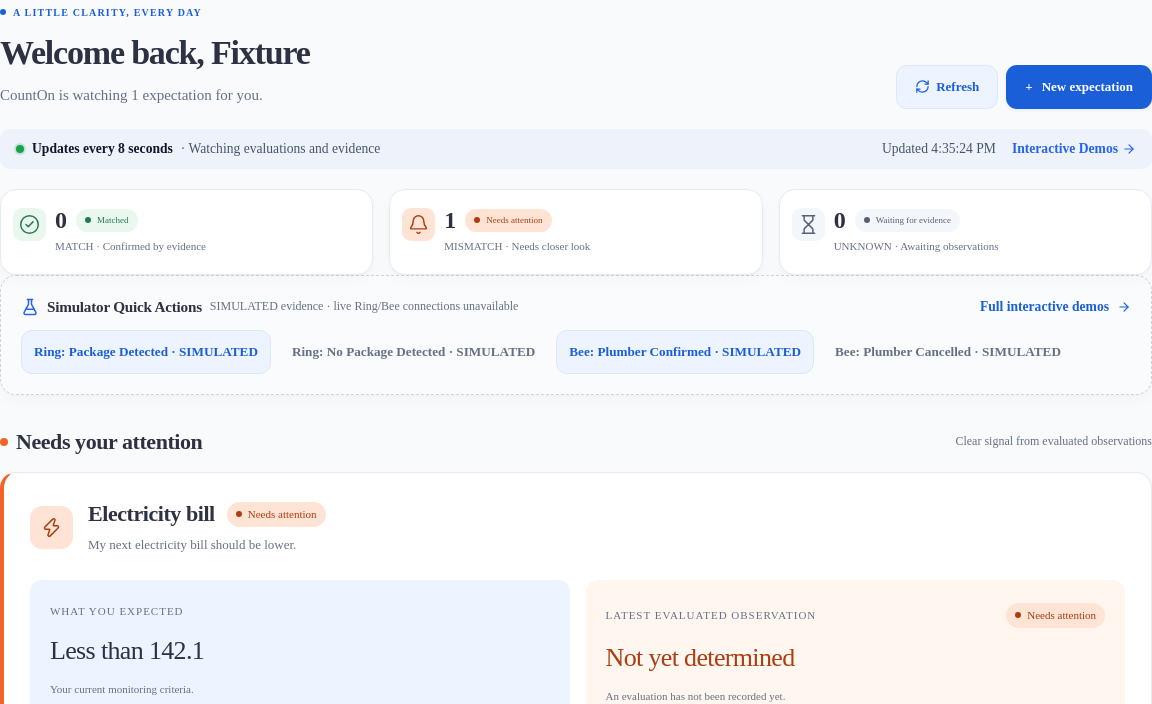
Test case: never attaches a quick simulator event to an unrelated first row
This screenshot has width=1152, height=704.
Click the button "Ring: No Package Detected · SIMULATED". click: (414, 352)
box: 279,330 -> 548,374
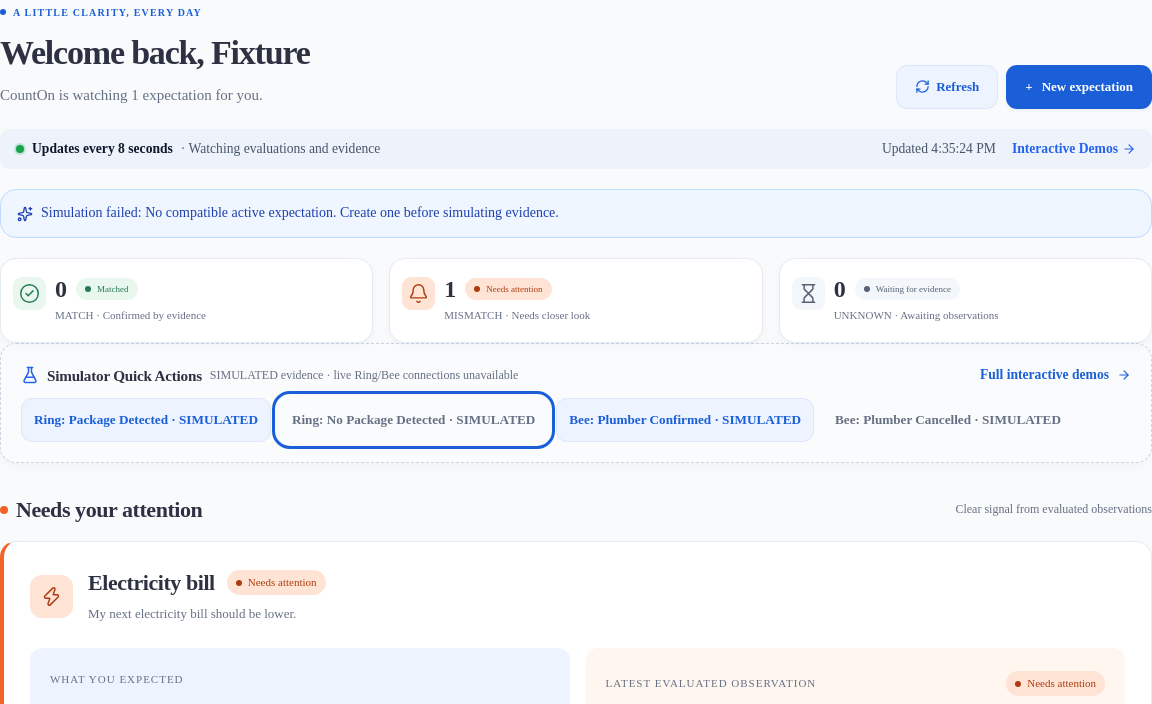
Check: the text "No compatible active expectation" is shown, box 41,205 -> 559,220
